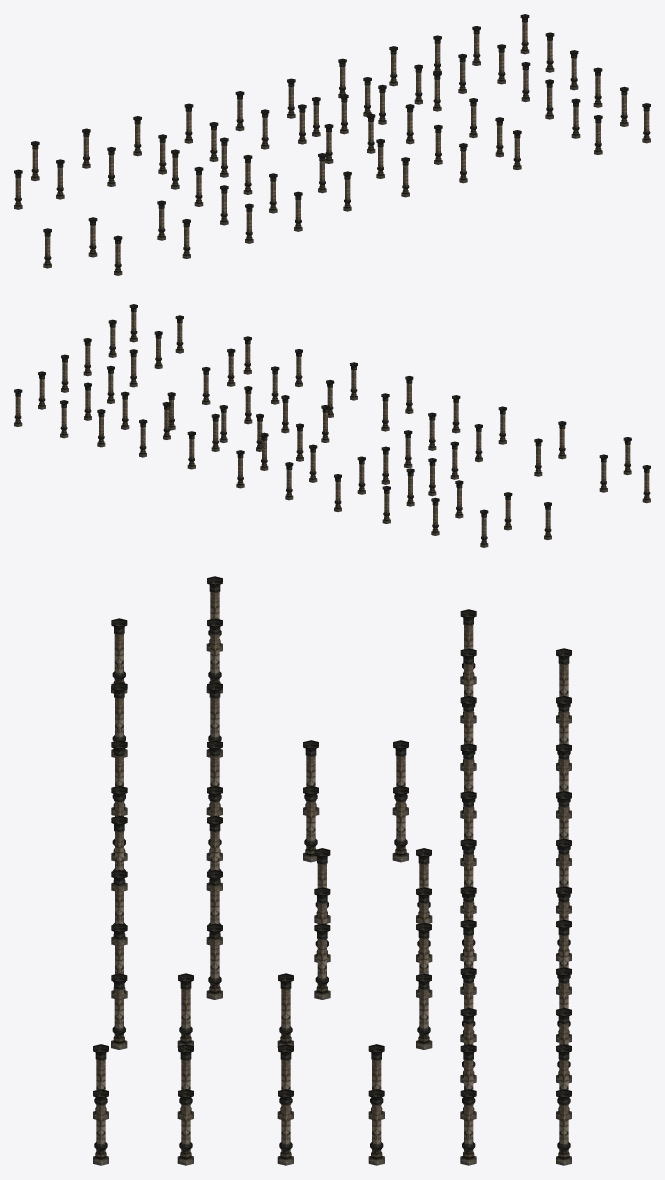
Rendered from Old_PhoenixCastle_Block_destruct_wall03.FBX.
3 views of the same model, one above another, from view 1: azimuth 30°, elevation 25°; view 2: azimuth 150°, elevation 25°; view 3: azimuth 270°, elevation 25° (orthographic). The views are drawn at different scales.
Parts seen in each view (by area): view 1: Object003; view 2: Object003; view 3: Object003.
Boxes of the visible parts, x1,y1,x2,y2 form: Object003: (14,14,650,275); Object003: (14,304,650,547); Object003: (93,576,571,1165).
Size of the model in its own units: 9319 by 685 by 3518.
Materials: 1 (1 with a texture image).
